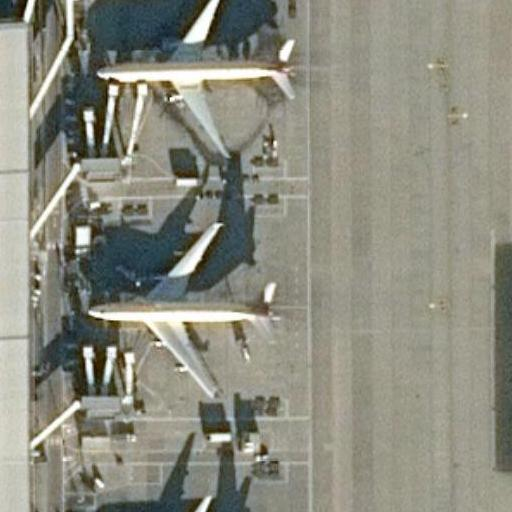Aircraft: (82, 216, 275, 403), (81, 219, 281, 396), (92, 0, 297, 157), (93, 0, 297, 155), (88, 490, 273, 512), (91, 491, 276, 512)
